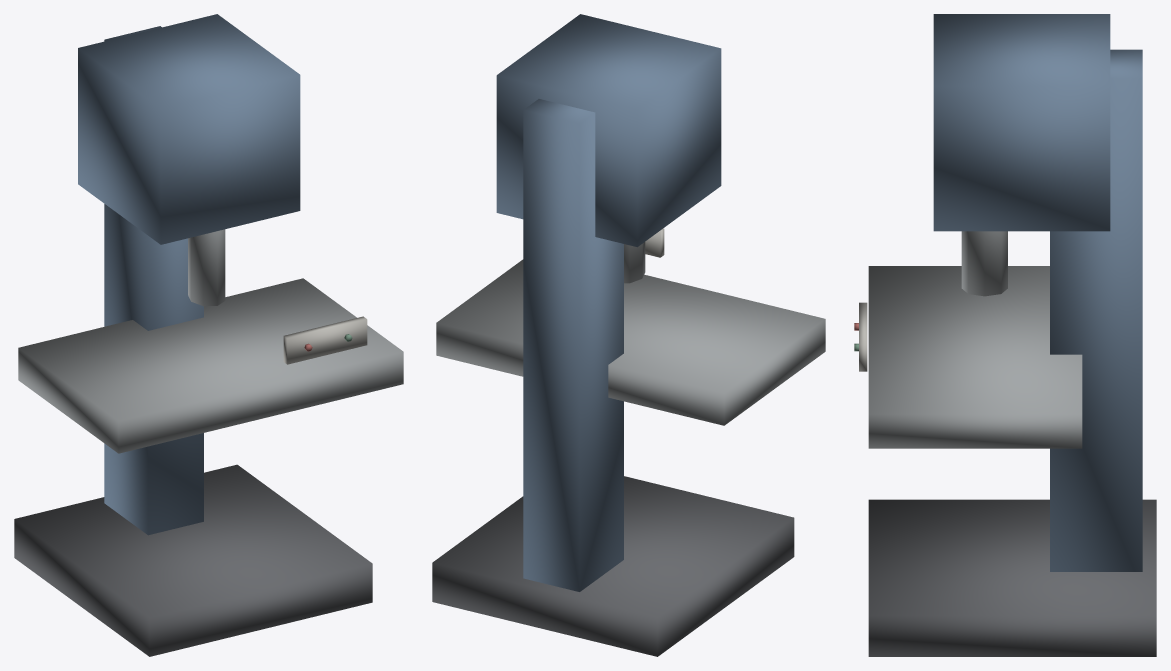
The model's file is milling_machine_silhouette__deep.glb.
3 renders of one model, left to right at view 1: azimuth 30°, elevation 25°; view 2: azimuth 150°, elevation 25°; view 3: azimuth 270°, elevation 25°, orthographic. The views are drawn at different scales.
Parts seen in each view (by area): view 1: world; view 2: world; view 3: world.
Boxes of the visible parts, <box> form: world: <box>14,14,403,656</box>; world: <box>432,14,825,656</box>; world: <box>854,14,1156,656</box>.
Bounding box in the file's own units: 0.92 × 1.59 × 0.7942.
